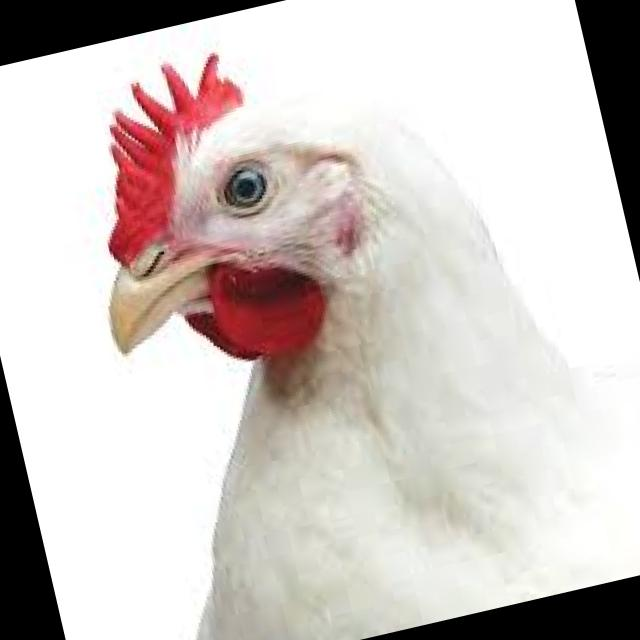Healthy: (54, 0, 640, 640)
